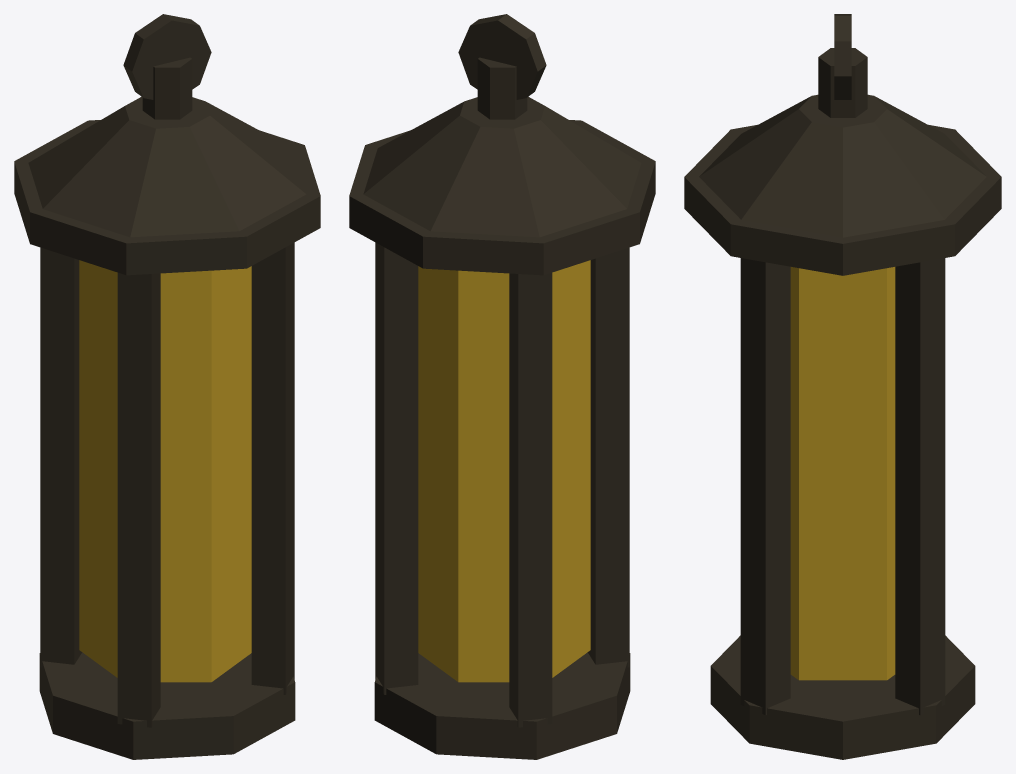
The model's file is MarketLantern.fbx.
The picture shows the model from 3 angles, left to right: view 1: azimuth 30°, elevation 25°; view 2: azimuth 150°, elevation 25°; view 3: azimuth 270°, elevation 25°; orthographic projection.
Parts seen in each view (by area): view 1: MarketLantern; view 2: MarketLantern; view 3: MarketLantern.
Boxes of the visible parts, x1=… form: MarketLantern: x1=14, y1=14, x2=320, y2=759; MarketLantern: x1=349, y1=14, x2=655, y2=759; MarketLantern: x1=684, y1=14, x2=1001, y2=759.
Size of the model in its own units: 18 by 43.1 by 18.
Materials: 2 (2 with a texture image).
